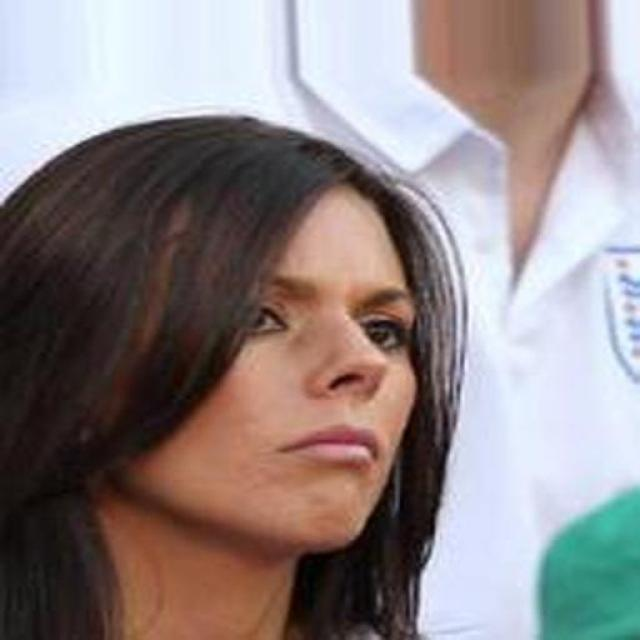bareface: (41, 124, 440, 516)
